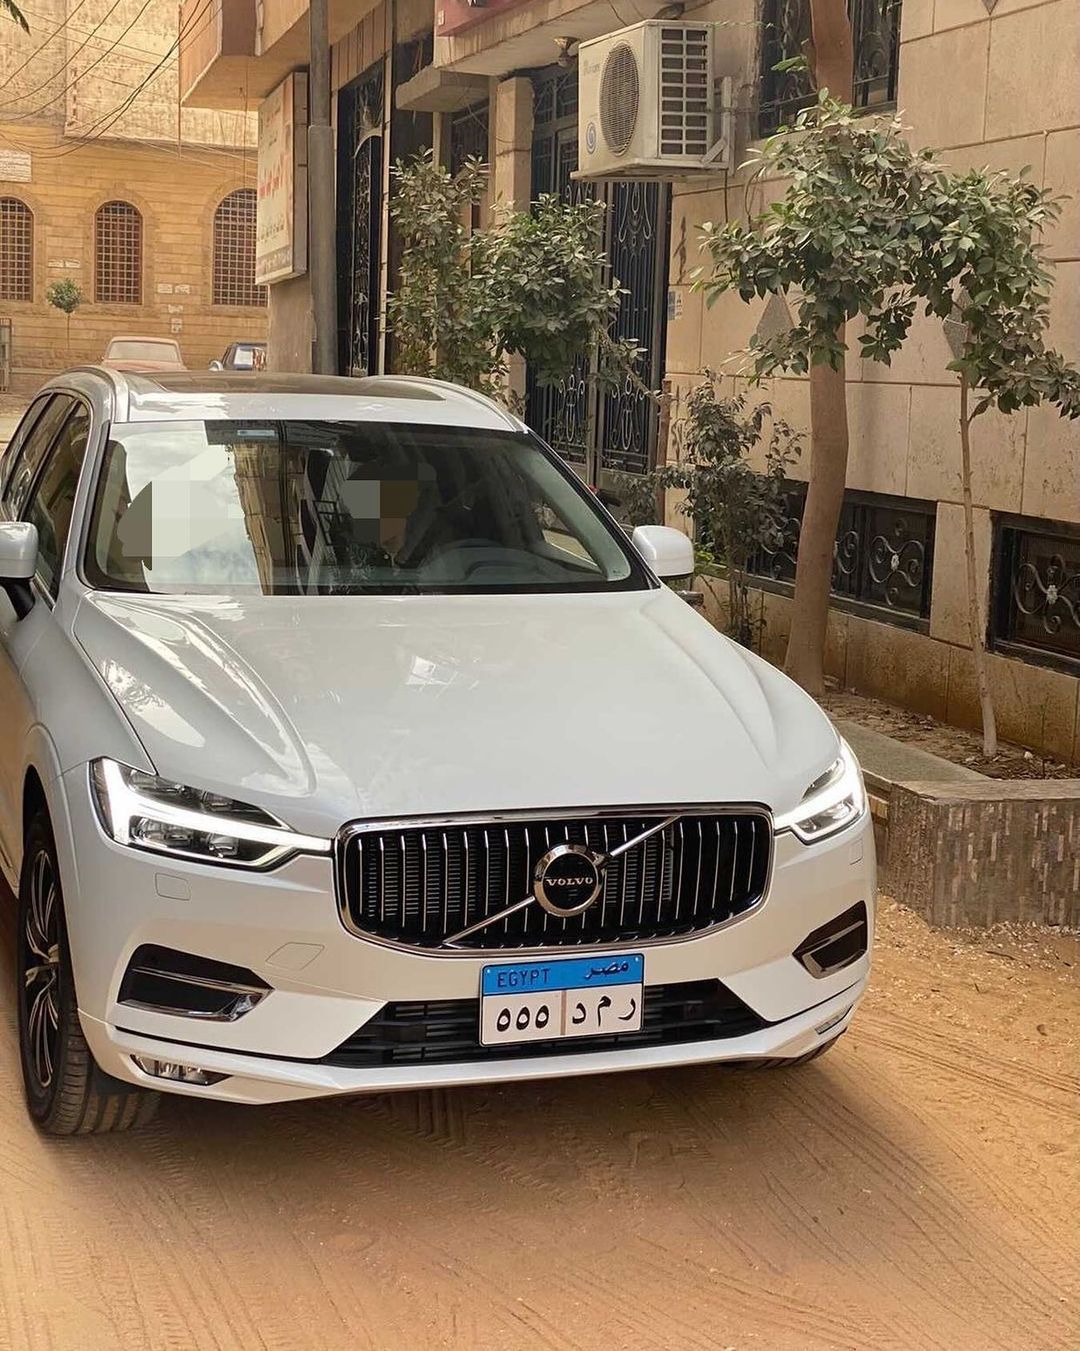carpl: (463, 959, 656, 1036)
